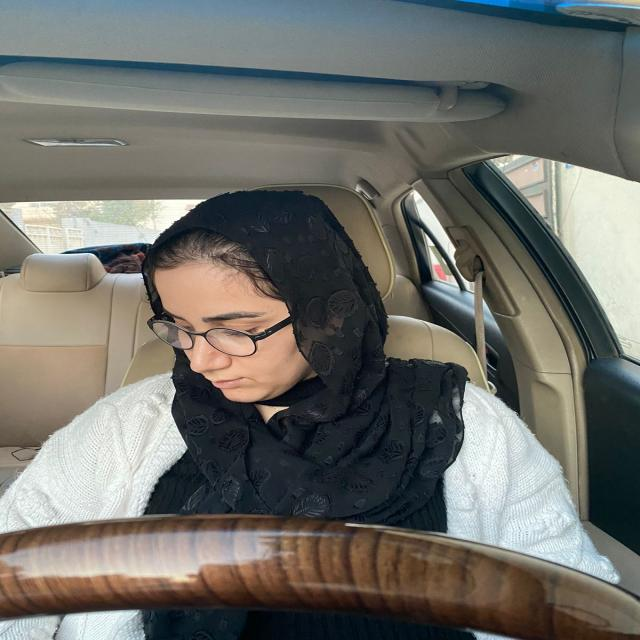drowsy: (144, 183, 379, 412)
